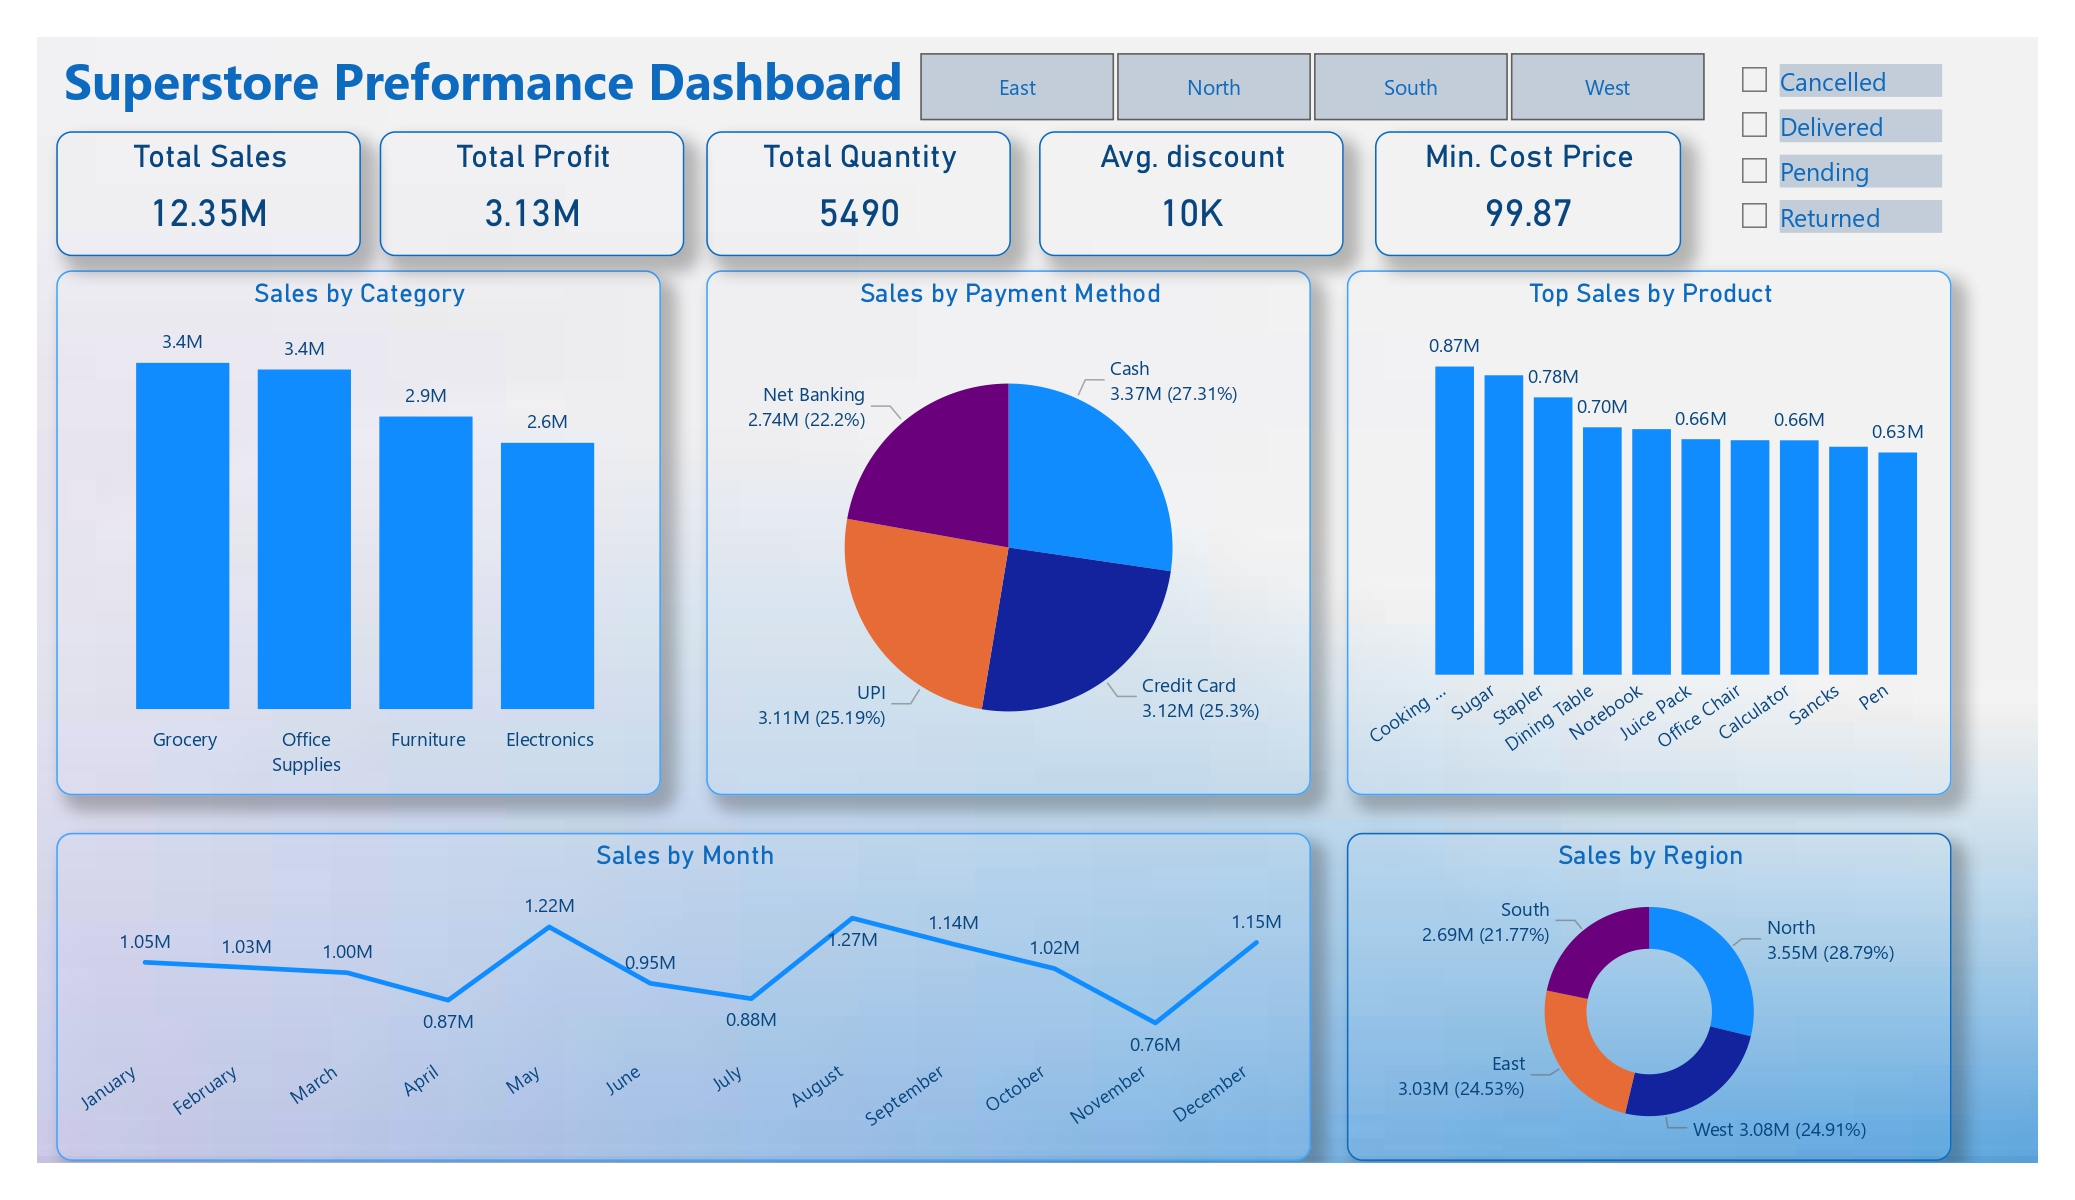

The page's visual inventory and layout, read from the dashboard file:
{"tool":"powerbi","page":{"name":"Page 1","canvas":[1280,720],"ordinal":0},"visuals":[{"type":"textbox","box":[12,0,572,65.1],"z":0},{"type":"slicer","fields":{"Values":["Superstore_Management_System.Region"]},"box":[539.5,3.4,551.5,56.5],"z":1000},{"type":"slicer","fields":{"Values":["Superstore_Management_System.Delivery Status"]},"box":[1077.3,6.9,147.3,130.2],"z":2000},{"type":"clusteredColumnChart","title":" Sales  by Category","fields":{"Category":["Superstore_Management_System.Category"],"Y":["Sum(Superstore_Management_System.Sales Amount)"]},"box":[12,149,387.1,335.7],"z":3000},{"type":"donutChart","title":" Sales  by Region","fields":{"Y":["Sum(Superstore_Management_System.Sales Amount)"],"Category":["Superstore_Management_System.Region"]},"box":[837.5,508.7,387.1,210.7],"z":4000},{"type":"pieChart","title":" Sales  by Payment Method","fields":{"Y":["Sum(Superstore_Management_System.Sales Amount)"],"Category":["Superstore_Management_System.Payment Mode"]},"box":[428.2,149,387.1,335.7],"z":5000},{"type":"lineChart","title":" Sales by Month","fields":{"Y":["Sum(Superstore_Management_System.Sales Amount)"],"Category":["Superstore_Management_System.Order Date.Variation.Date Hierarchy.Month"]},"box":[12,508.7,803.3,210.7],"z":6000},{"type":"columnChart","title":" Top Sales by Product","fields":{"Y":["Sum(Superstore_Management_System.Sales Amount)"],"Category":["Superstore_Management_System.Product Name"]},"box":[837.5,149,387.1,335.7],"z":7000},{"type":"card","title":"Total Sales","fields":{"Values":["Sum(Superstore_Management_System.Sales Amount)"]},"box":[12,59.9,195.2,80.5],"z":8000},{"type":"card","title":"Total Profit","fields":{"Values":["Sum(Superstore_Management_System.Profit)"]},"box":[219.2,59.9,195.2,80.5],"z":9000},{"type":"card","title":"Avg. discount","fields":{"Values":["Sum(Superstore_Management_System.Discount (%))"]},"box":[640.5,59.9,195.2,80.5],"z":10000},{"type":"card","title":"Total Quantity","fields":{"Values":["Sum(Superstore_Management_System.Quantity)"]},"box":[428.2,59.9,195.2,80.5],"z":11000},{"type":"card","title":"Min. Cost ","fields":{"Values":["Min(Superstore_Management_System.Cost Price)"]},"box":[856.3,59.9,195.2,80.5],"z":12000}]}

Visuals, with their boxes in screenshot pixels (x1, y1, x2, y2):
textbox: BBox(56, 38, 950, 139)
slicer - Superstore_Management_System.Region: BBox(880, 43, 1742, 131)
slicer - Superstore_Management_System.Delivery Status: BBox(1721, 48, 1951, 252)
" Sales  by Category" clusteredColumnChart: BBox(56, 270, 661, 795)
" Sales  by Region" donutChart: BBox(1346, 832, 1951, 1162)
" Sales  by Payment Method" pieChart: BBox(707, 270, 1311, 795)
" Sales by Month" lineChart: BBox(56, 832, 1311, 1162)
" Top Sales by Product" columnChart: BBox(1346, 270, 1951, 795)
"Total Sales" card: BBox(56, 131, 361, 257)
"Total Profit" card: BBox(380, 131, 685, 257)
"Avg. discount" card: BBox(1038, 131, 1343, 257)
"Total Quantity" card: BBox(707, 131, 1012, 257)
"Min. Cost " card: BBox(1375, 131, 1680, 257)
